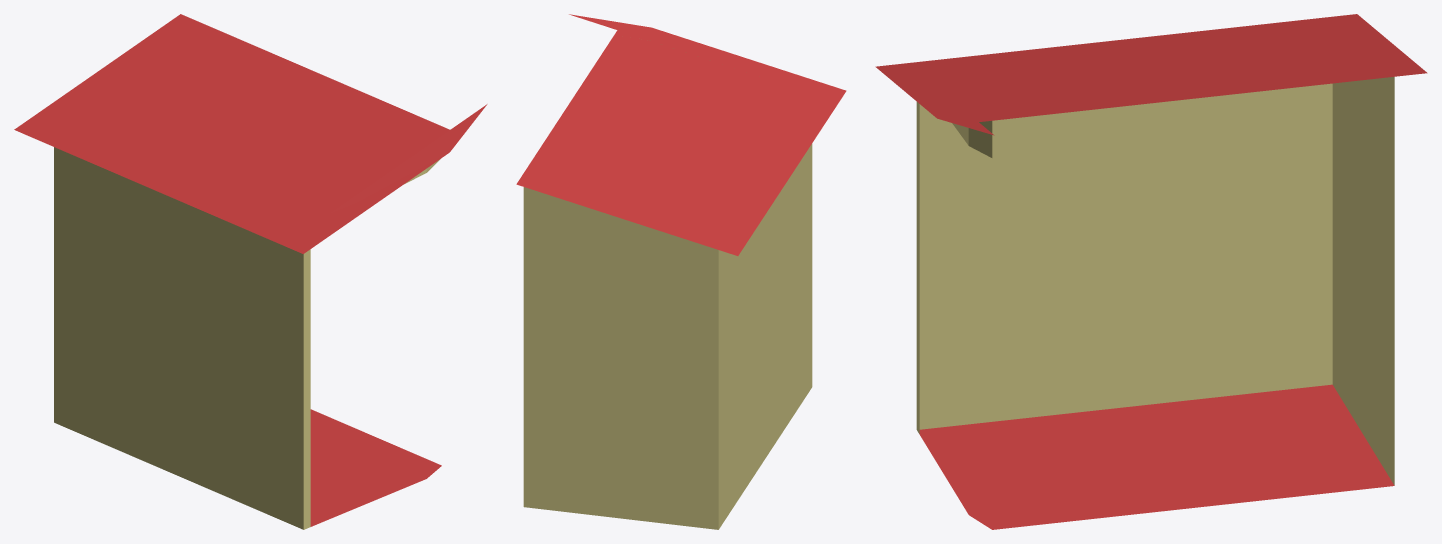
3 views of the same model, side by side, from view 1: azimuth 30°, elevation 25°; view 2: azimuth 150°, elevation 25°; view 3: azimuth 270°, elevation 25° (orthographic). The views are drawn at different scales.
Bounding box in the file's own units: 6.6 × 8.09 × 6.82.
